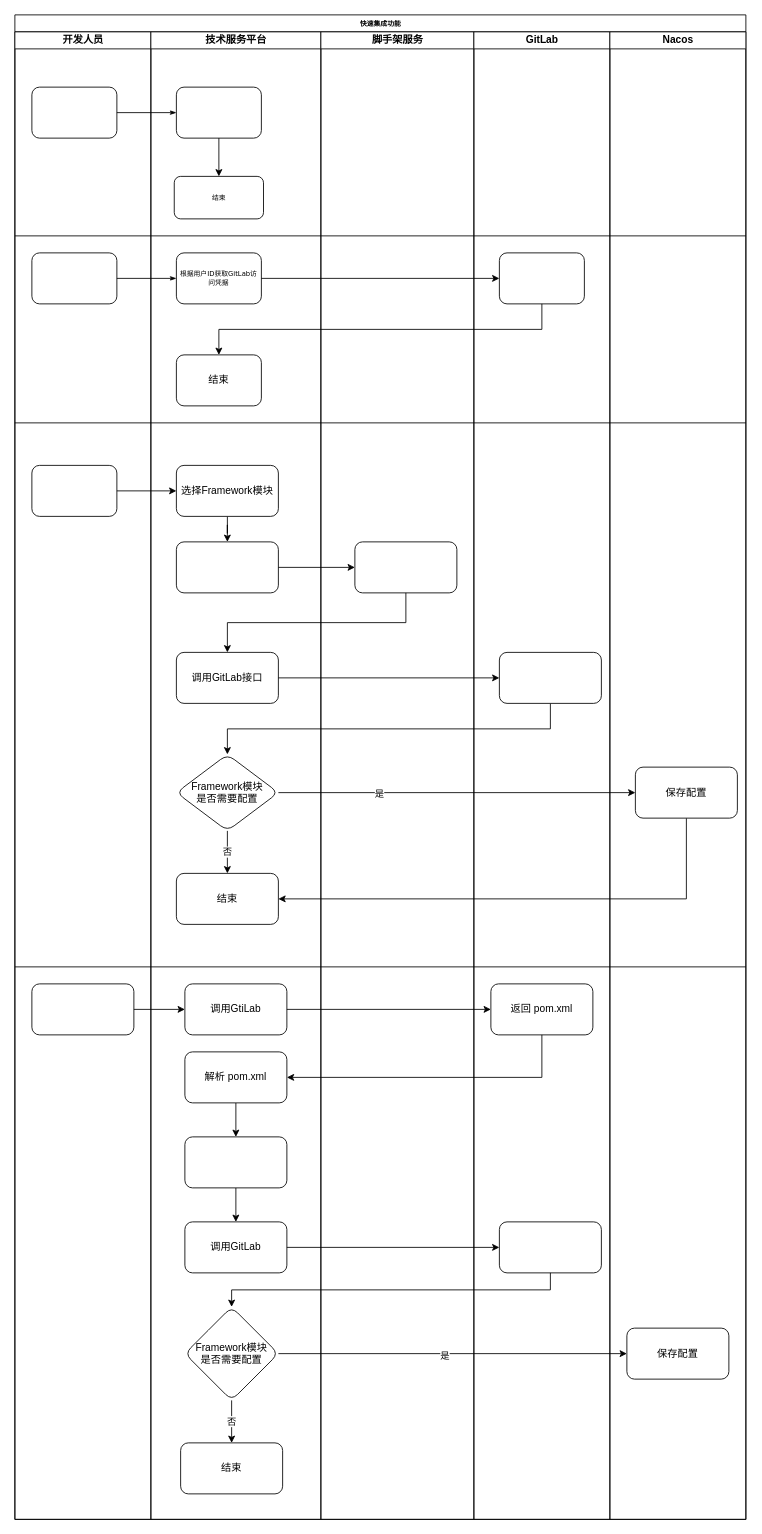
Some shapes in this 762 by 1534 pixel diagram are drawn without their labels. Here are the shapes that lost their labels. From the top down, the centre of each, then its label:
(x=74, y=112): 创建GitLab访问凭据
(x=218, y=112): 保存GitLab访问凭据
(x=74, y=278): 进入"快速集成"菜单
(x=541, y=278): 查询工程列表
(x=74, y=490): 创建GitLab工程
(x=227, y=567): 调用脚手架服务接口
(x=405, y=567): 生成工程文件
(x=550, y=677): 提交工程文件
(x=82, y=1009): 为某个工程 添加 / 删除 模块
(x=235, y=1162): 编辑Framework模块
(x=550, y=1247): 提交 pom.xml
